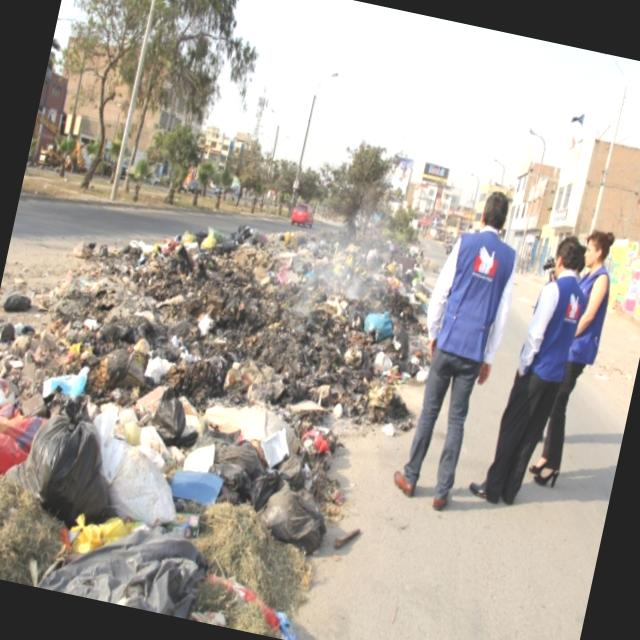garbage: (0, 192, 410, 640)
